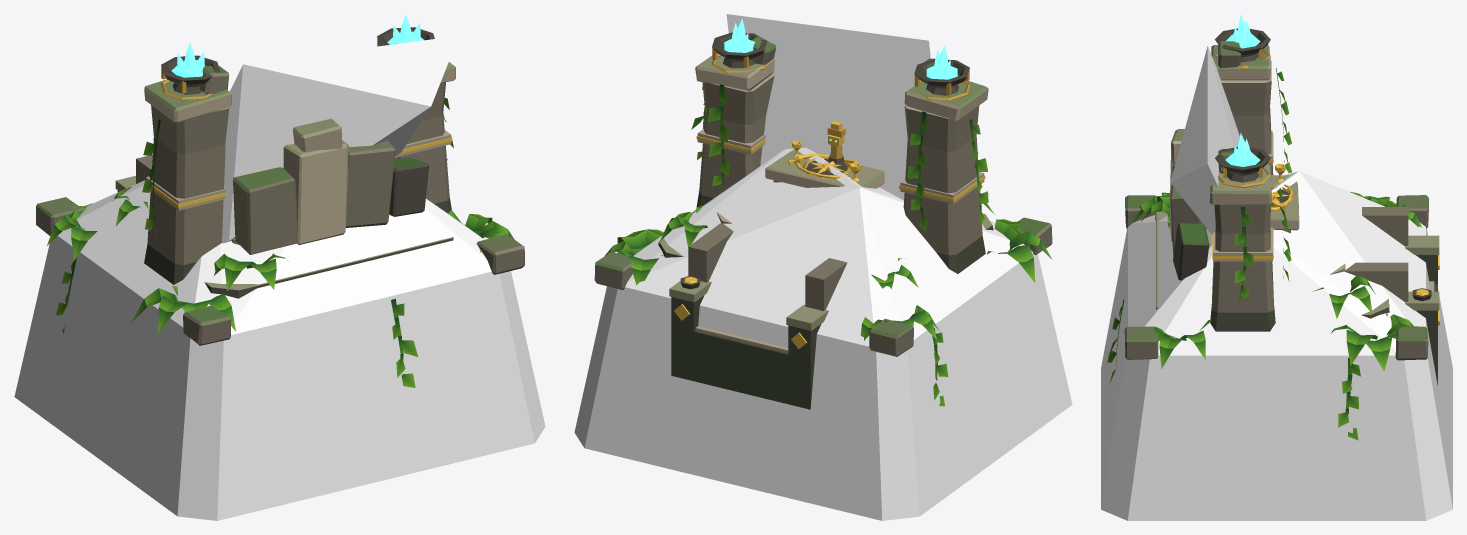
Rendered from overgrown_jungle_idol_altar.glb.
3 renders of one model, left to right at view 1: azimuth 30°, elevation 25°; view 2: azimuth 150°, elevation 25°; view 3: azimuth 270°, elevation 25°, orthographic. The views are drawn at different scales.
Visible parts, largest first — view 1: col_altar_plinth, OvergrownJungleIdolAltar, col_altar_pillars; view 2: col_altar_plinth, OvergrownJungleIdolAltar, col_altar_pillars; view 3: col_altar_plinth, OvergrownJungleIdolAltar, col_altar_pillars.
Boxes of the visible parts, left/top/right/bottom form: col_altar_plinth: left=14, top=180, right=545, bottom=520; OvergrownJungleIdolAltar: left=36, top=14, right=524, bottom=387; col_altar_pillars: left=222, top=36, right=458, bottom=243; col_altar_plinth: left=574, top=148, right=1072, bottom=520; OvergrownJungleIdolAltar: left=594, top=19, right=1052, bottom=409; col_altar_pillars: left=726, top=14, right=930, bottom=200; col_altar_plinth: left=1101, top=171, right=1452, bottom=520; OvergrownJungleIdolAltar: left=1107, top=14, right=1439, bottom=440; col_altar_pillars: left=1170, top=46, right=1239, bottom=234.
Size of the model in its own units: 10.61 by 11.2 by 9.5.
